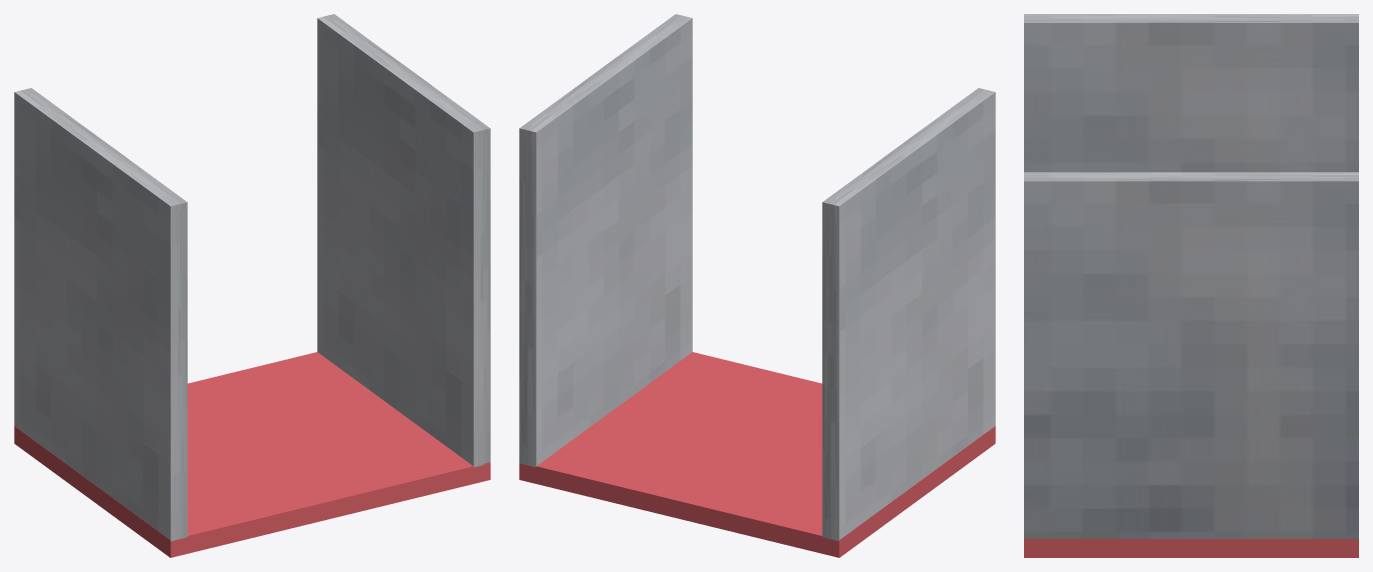
The model's file is wallsAndFloor.glb.
The picture shows the model from 3 angles, left to right: view 1: azimuth 30°, elevation 25°; view 2: azimuth 150°, elevation 25°; view 3: azimuth 270°, elevation 25°; orthographic projection. The views are drawn at different scales.
Visible parts, largest first — view 1: L-Wall, R-Wall, Floor; view 2: L-Wall, R-Wall, Floor; view 3: R-Wall, L-Wall, Floor.
Boxes of the visible parts, x1,y1,x2,y2 form: L-Wall: [14, 88, 187, 541]; R-Wall: [317, 14, 490, 467]; Floor: [14, 352, 490, 557]; L-Wall: [822, 88, 995, 541]; R-Wall: [519, 14, 692, 467]; Floor: [519, 352, 995, 557]; R-Wall: [1024, 172, 1358, 538]; L-Wall: [1024, 14, 1358, 172]; Floor: [1024, 539, 1358, 557].
Size of the model in its own units: 9.77 by 10.26 by 8.26.
Materials: 2 (1 with a texture image).
